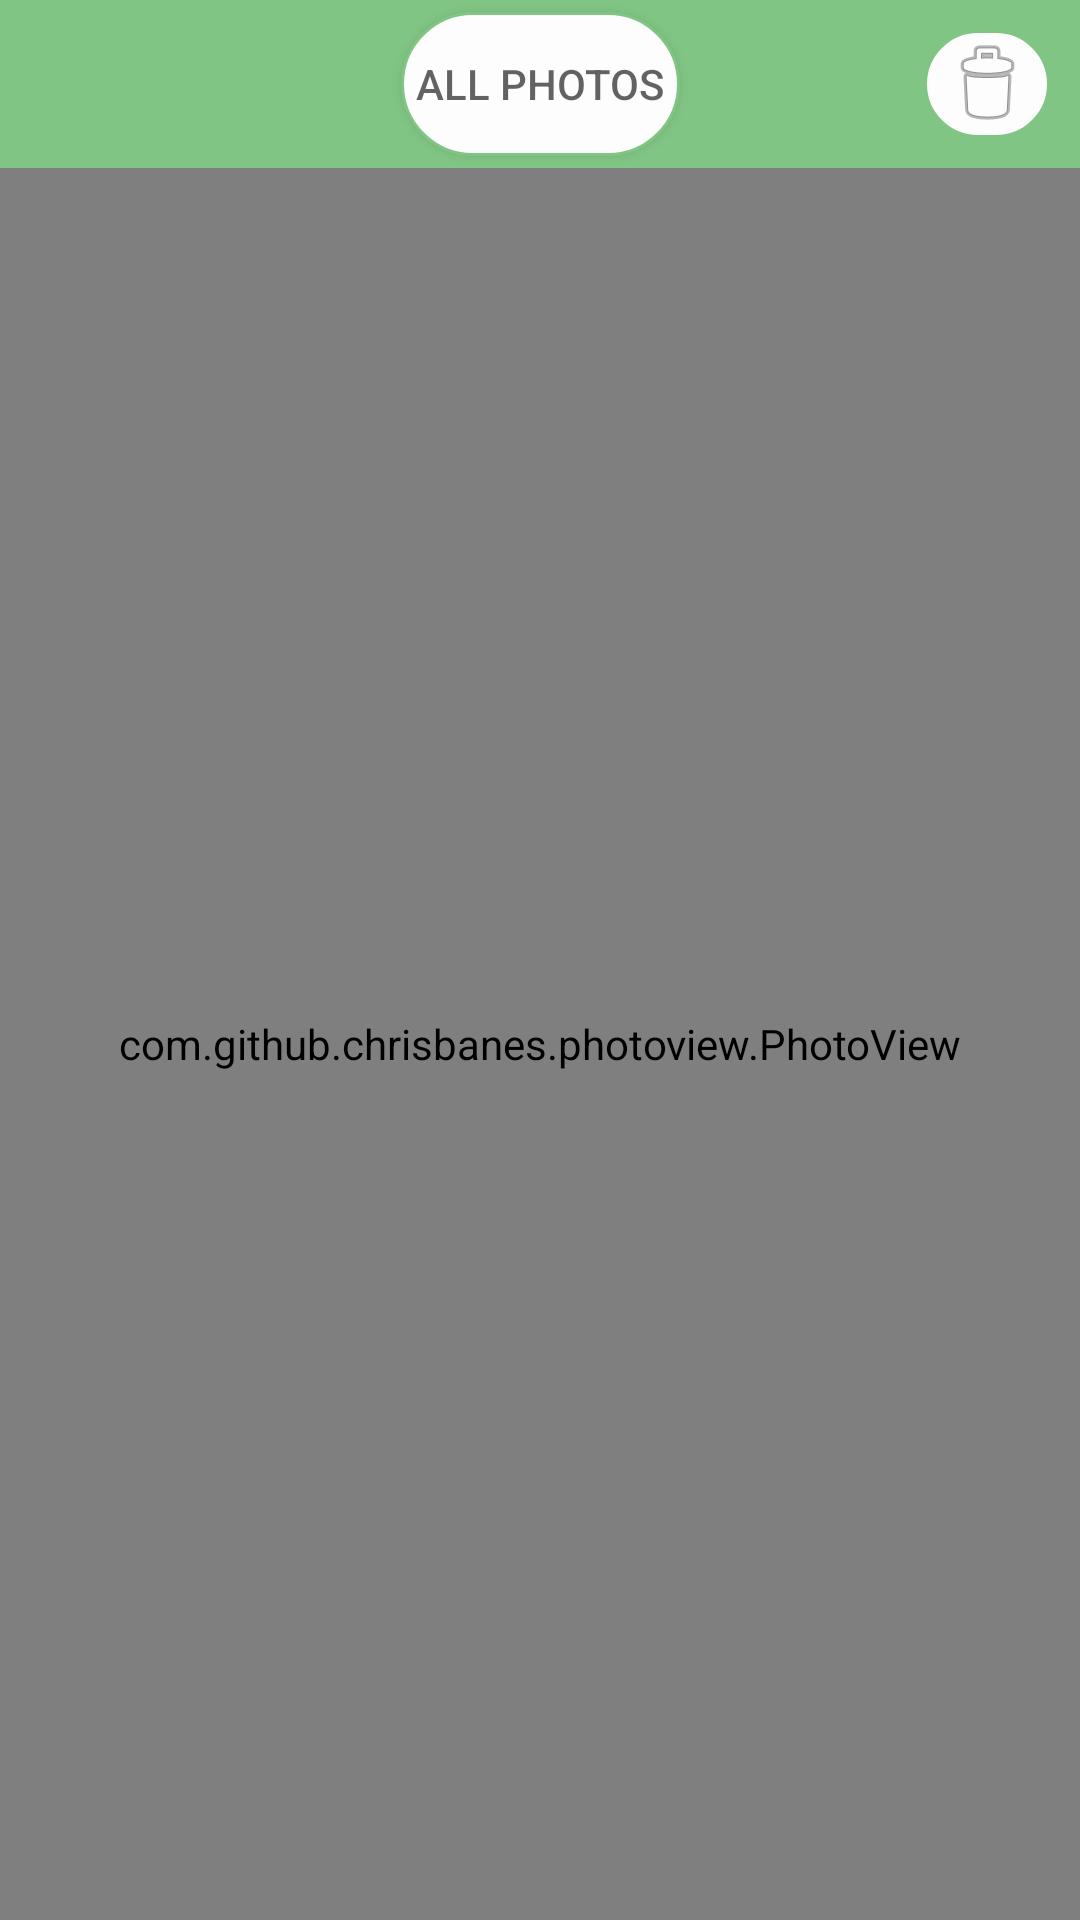

Locate icon controls on the screen. Image size 1080*1920, boxes as (x1, y1, x2, y2).
delete: (927, 33, 1047, 135)
